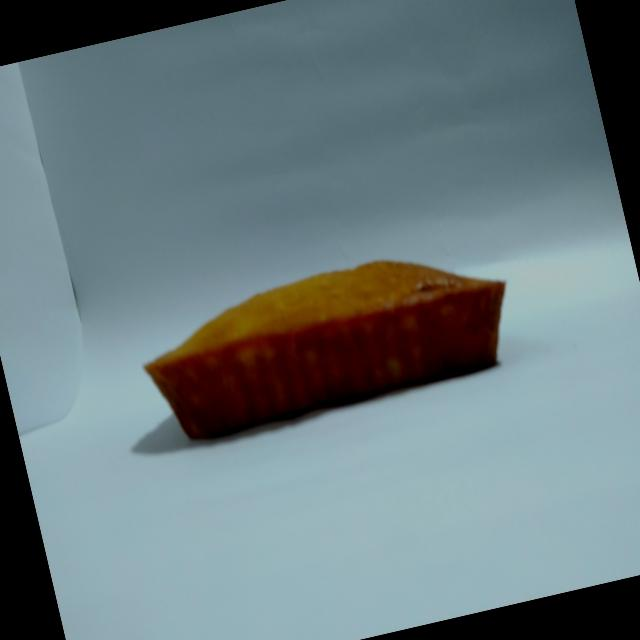Sopa: (115, 217, 538, 464)
